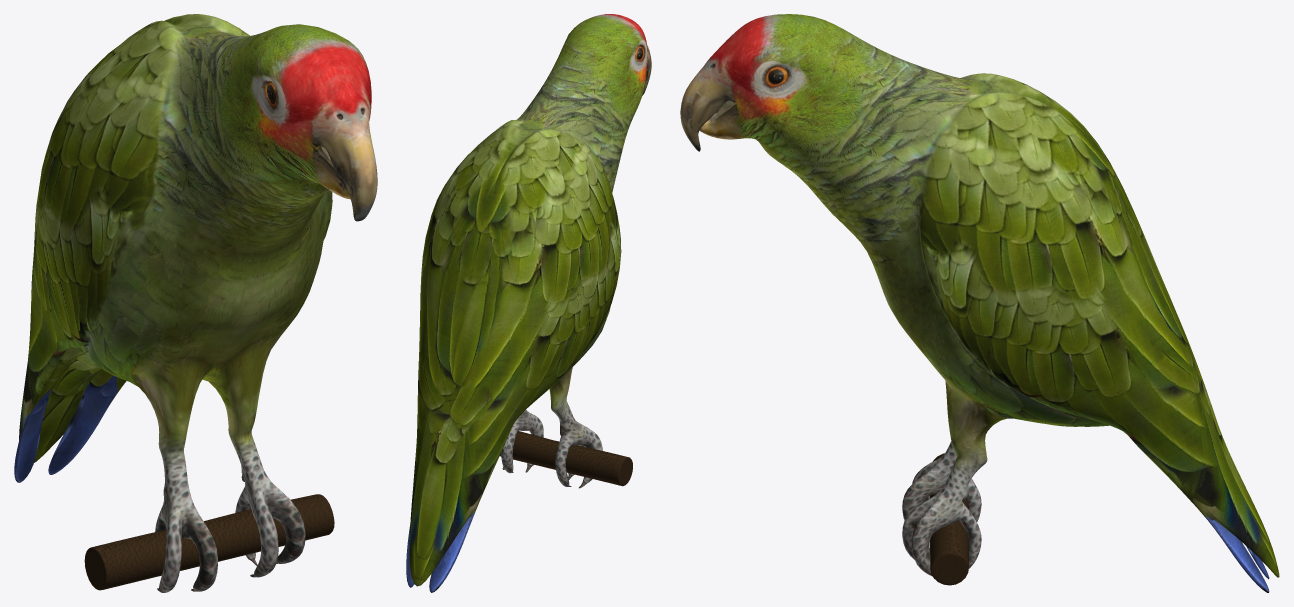
Rendered from LoraCopeteRojo.glb.
3 renders of one model, left to right at view 1: azimuth 30°, elevation 25°; view 2: azimuth 150°, elevation 25°; view 3: azimuth 270°, elevation 25°, orthographic. The views are drawn at different scales.
Parts seen in each view (by area): view 1: LoraCopeteRojo; view 2: LoraCopeteRojo; view 3: LoraCopeteRojo.
Part boxes in pixels (x1,y1,x2,y2): LoraCopeteRojo: (14,14,377,592); LoraCopeteRojo: (406,14,651,592); LoraCopeteRojo: (680,14,1279,592).
Size of the model in its own units: 0.5031 by 1.28 by 1.23.
2 materials, 2 textured.
